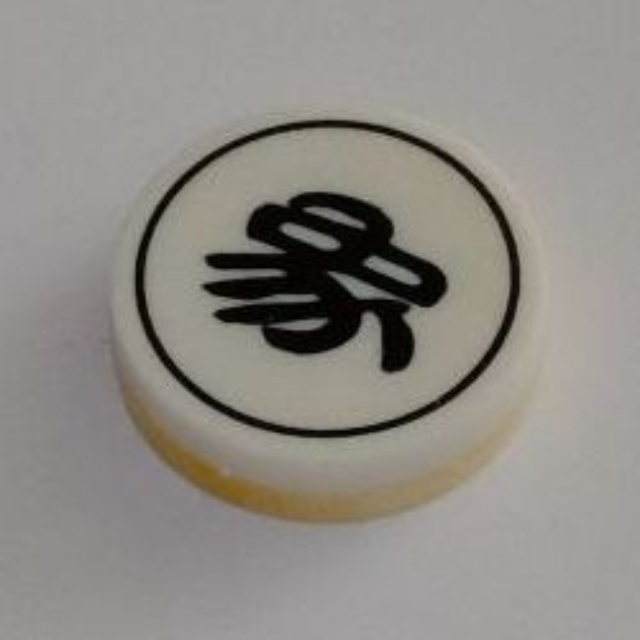black_bo: (89, 94, 558, 521)
